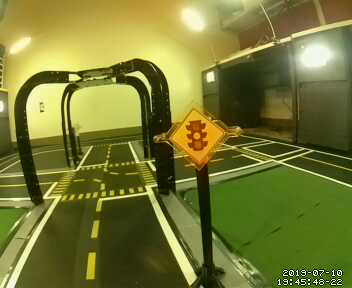Traffic light sign: (171, 110, 223, 167)
